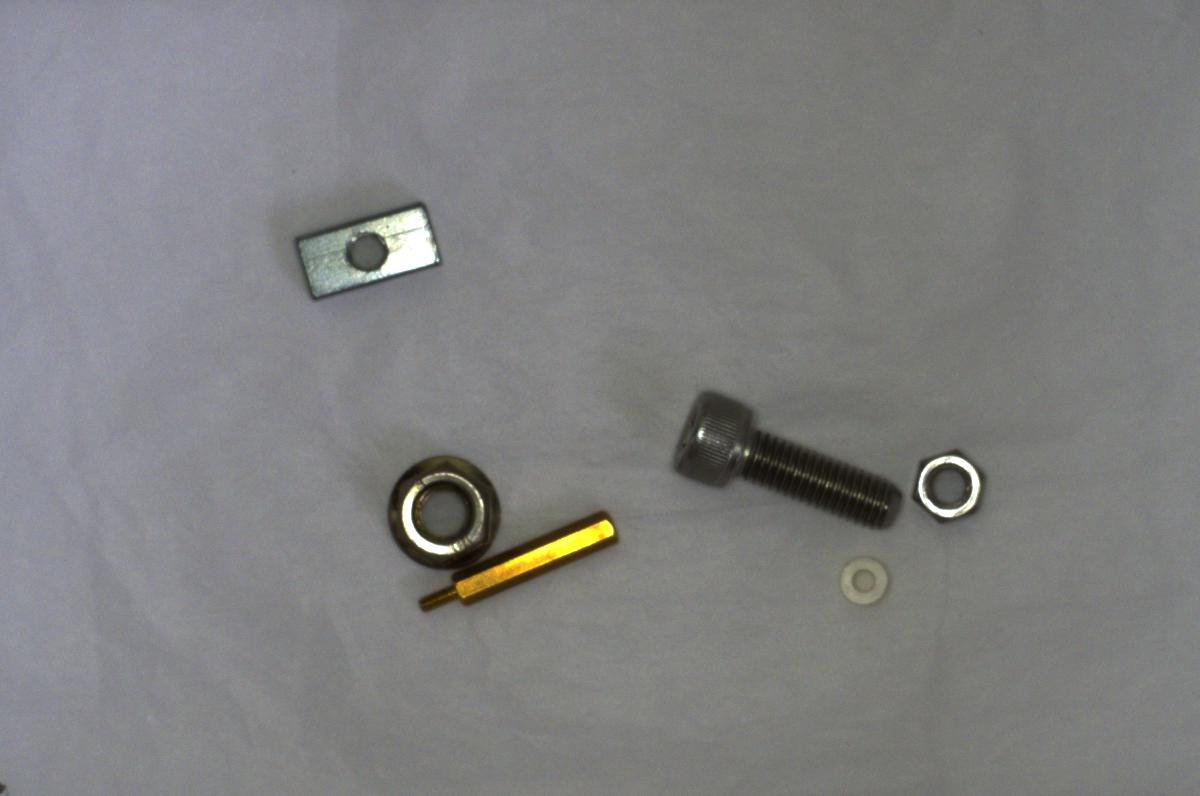Flange nut: (374, 446, 505, 574)
Hexagon nut: (901, 442, 986, 527)
Hexagon pillar: (413, 508, 620, 618)
Hexagon screw: (661, 392, 910, 532)
Plastic cushion pillar: (833, 550, 899, 612)
Rectangular nut: (294, 189, 452, 305)
